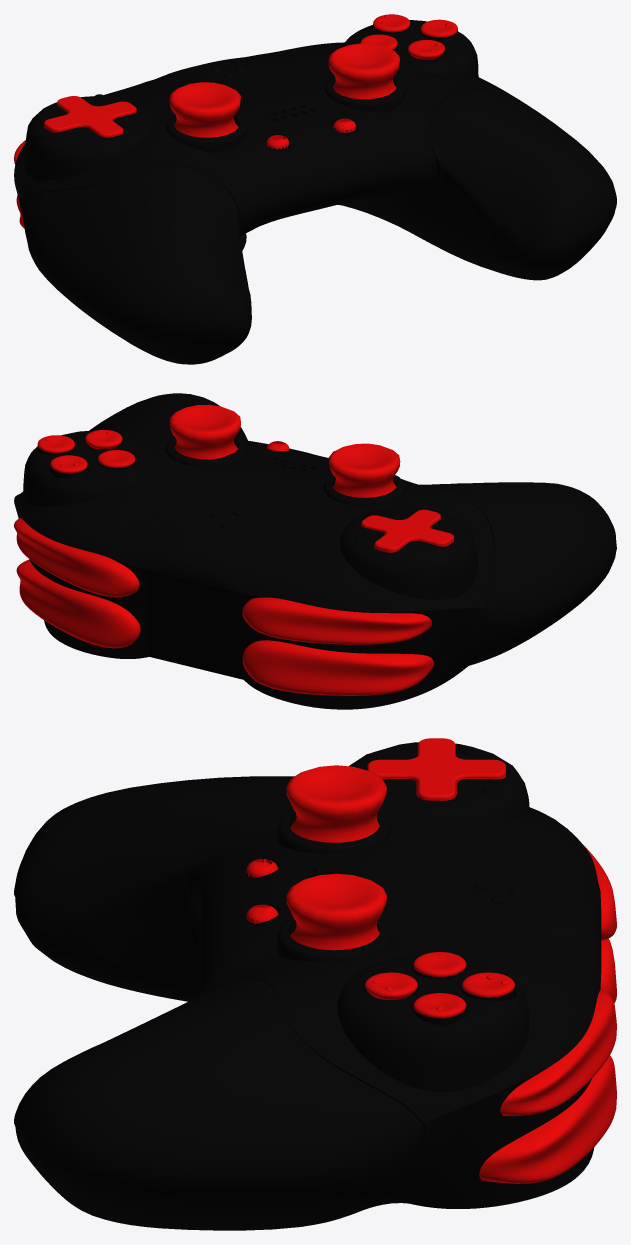
File: waypoint.glb
The picture shows the model from 3 angles, top to bottom: view 1: azimuth 30°, elevation 25°; view 2: azimuth 150°, elevation 25°; view 3: azimuth 270°, elevation 25°; orthographic projection. The views are drawn at different scales.
Visible parts, largest first — view 1: waypoint_alien_final; view 2: waypoint_alien_final; view 3: waypoint_alien_final.
Boxes of the visible parts, box(x1,y1,x2,y2) form: waypoint_alien_final: box(14, 14, 616, 364); waypoint_alien_final: box(14, 393, 616, 709); waypoint_alien_final: box(14, 738, 616, 1230).
Bounding box in the file's own units: 14.53 × 5.39 × 10.58.
